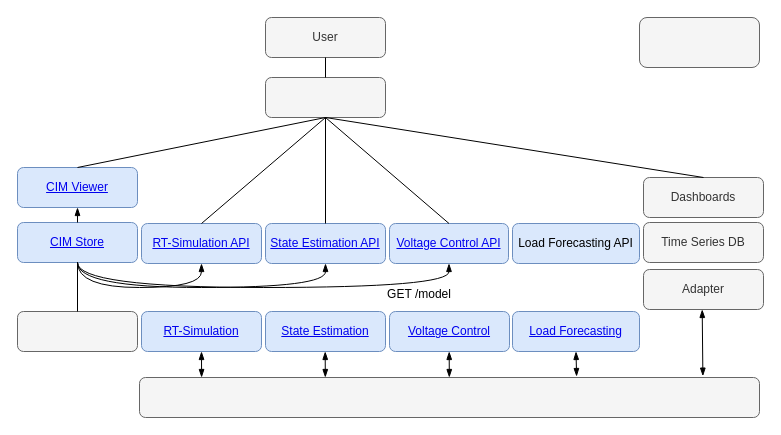
Image size: 781x435. Some labels were removed from this diagram. Each missing label, with the centre of its shape:
"helm charts" goes at point 699,42.
"Message Broker" goes at point 449,397.
"Model DB" goes at point 77,331.
"Reverse Proxy" goes at point 325,97.
